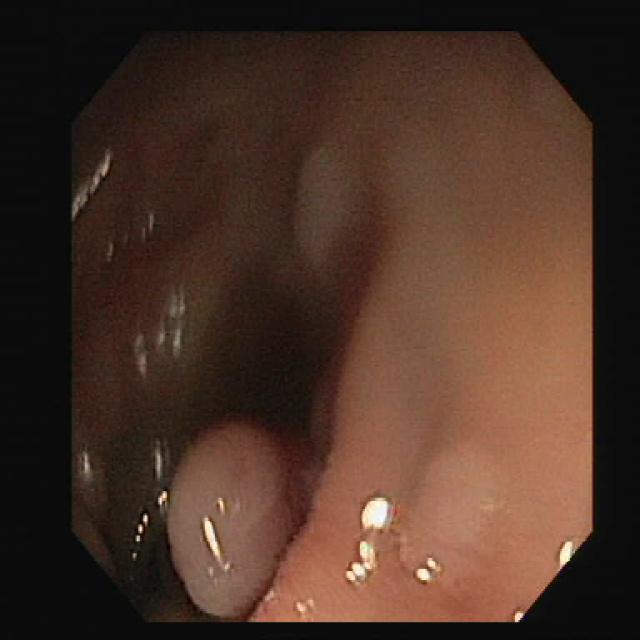tumor: (165, 420, 303, 616)
